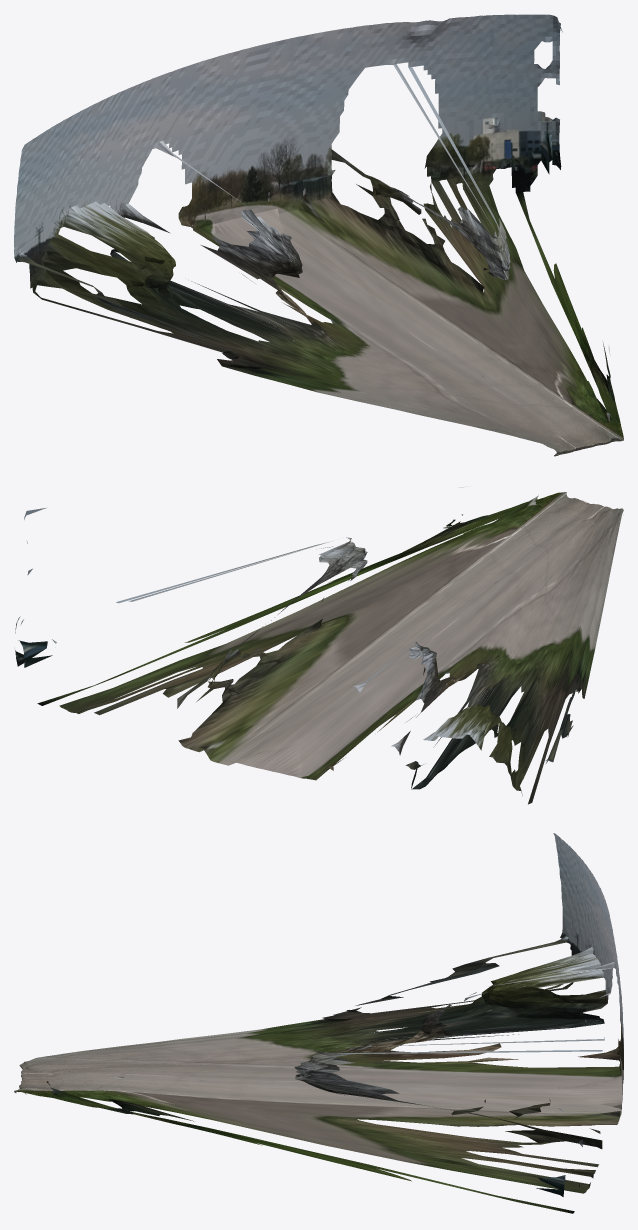
3 views of the same model, one above another, from view 1: azimuth 30°, elevation 25°; view 2: azimuth 150°, elevation 25°; view 3: azimuth 270°, elevation 25° (orthographic). The views are drawn at different scales.
Visible parts, largest first — view 1: defaultobject; view 2: defaultobject; view 3: defaultobject.
Boxes of the visible parts, x1,y1,x2,y2 form: defaultobject: (14, 14, 623, 456); defaultobject: (15, 486, 623, 804); defaultobject: (14, 833, 623, 1213).
Bounding box in the file's own units: 41.09 × 13.67 × 44.71.
Materials: 1 (1 with a texture image).
